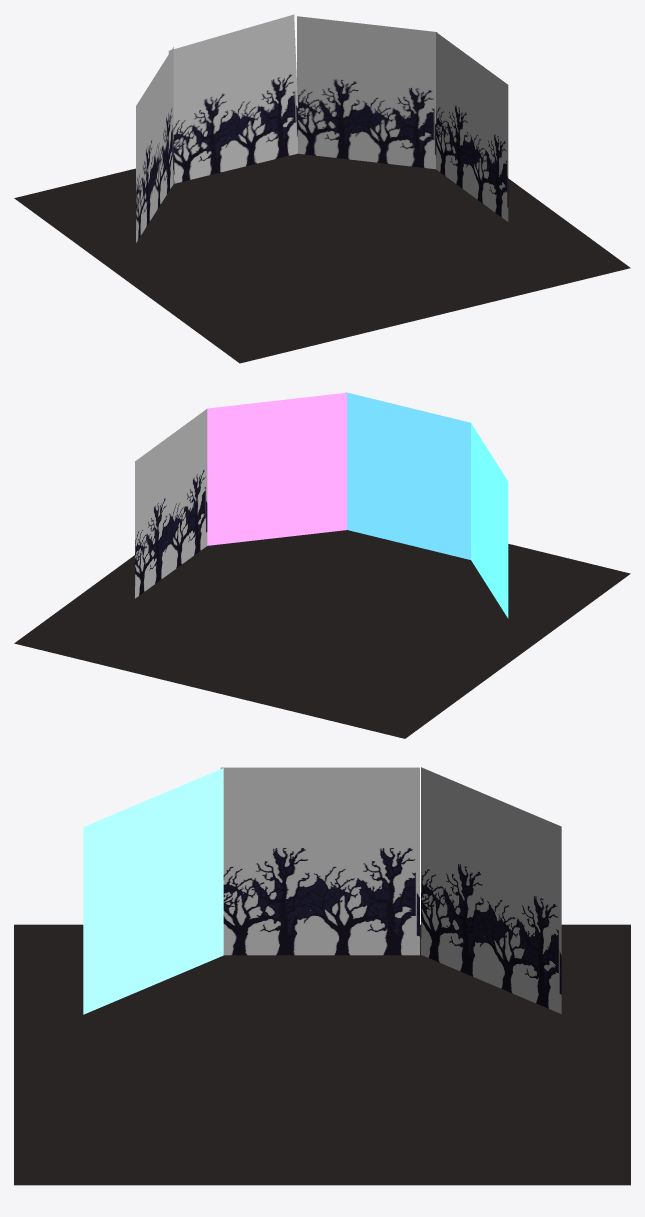
Rendered from UntitledScene.glb.
3 views of the same model, one above another, from view 1: azimuth 30°, elevation 25°; view 2: azimuth 150°, elevation 25°; view 3: azimuth 270°, elevation 25° (orthographic). The views are drawn at different scales.
Parts seen in each view (by area): view 1: Plane1, Plane (×4); view 2: Plane1, Plane (×4); view 3: Plane1, Plane (×3).
Boxes of the visible parts, bbox=[...] form: Plane1: bbox=[14, 153, 630, 363]; Plane (×4): bbox=[136, 14, 508, 242]; Plane1: bbox=[14, 530, 630, 738]; Plane (×4): bbox=[135, 392, 508, 618]; Plane1: bbox=[14, 924, 630, 1185]; Plane (×3): bbox=[83, 767, 561, 1014].
Size of the model in its own units: 23.84 by 10.32 by 23.84.
5 materials, 1 textured.
